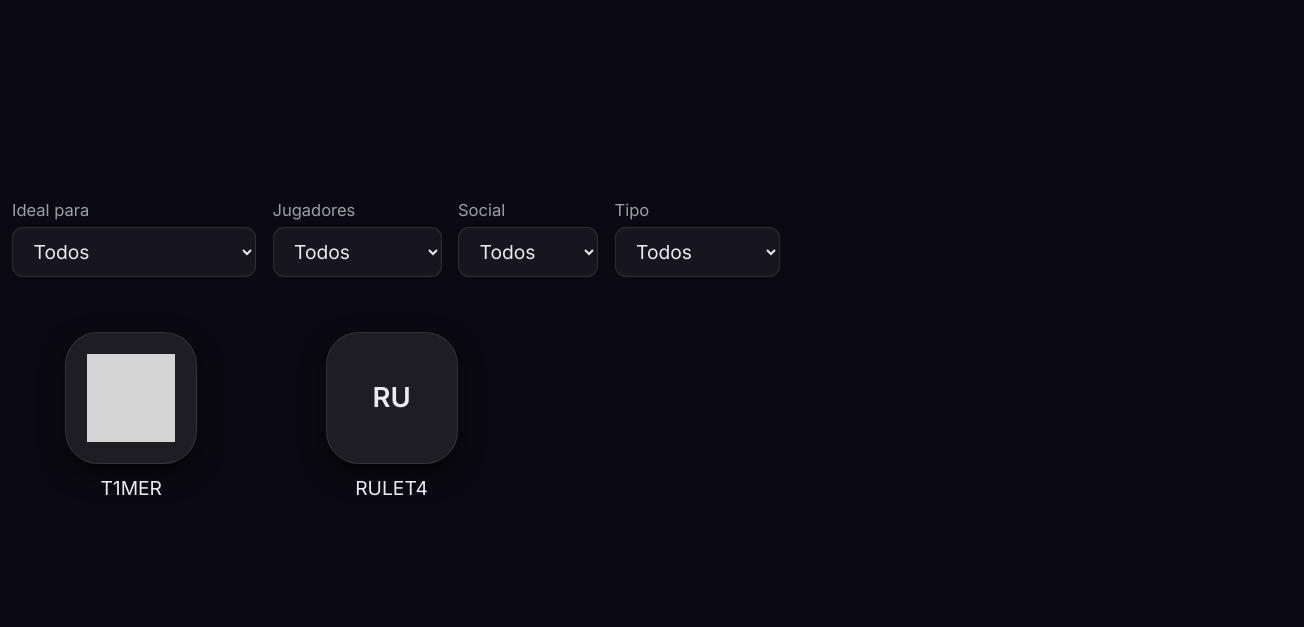
GameGate – create/join view › back button returns to catalog
The width and height of the screenshot is (1304, 627).
Click the button "T1MER": point(131, 417) [61, 332, 201, 502]
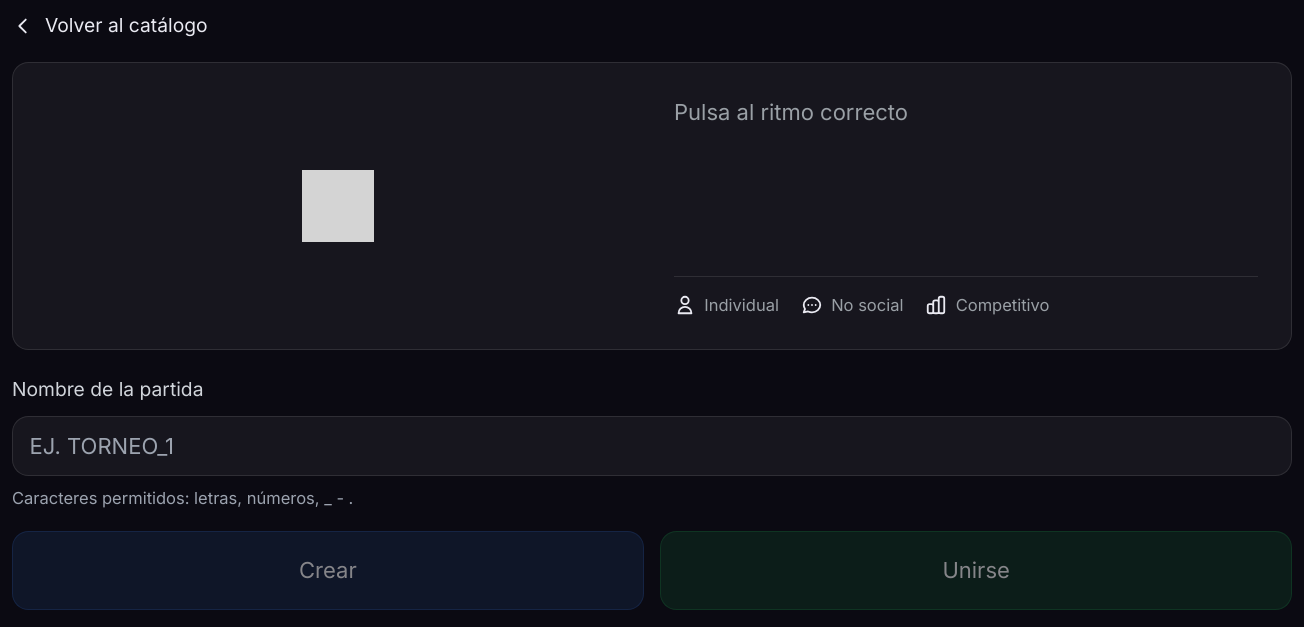
Click the button "Volver al catálogo": point(110, 26) [12, 12, 208, 40]
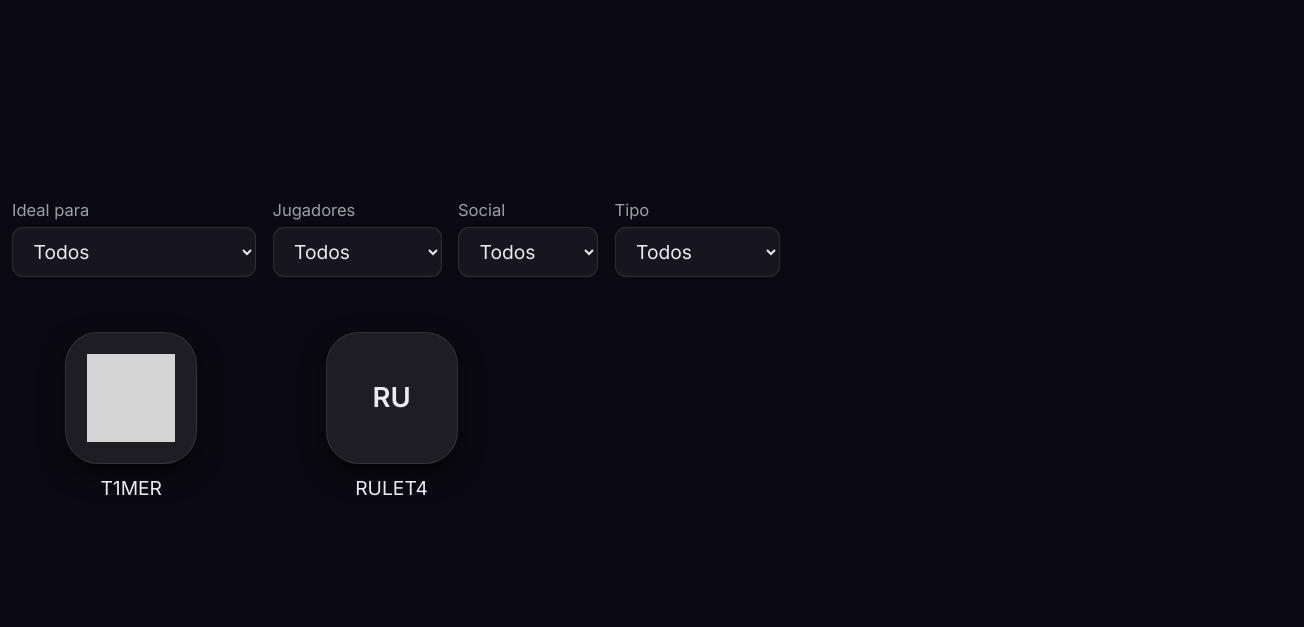
Check: the heading "T1MER" is shown, box [100, 474, 162, 502]
